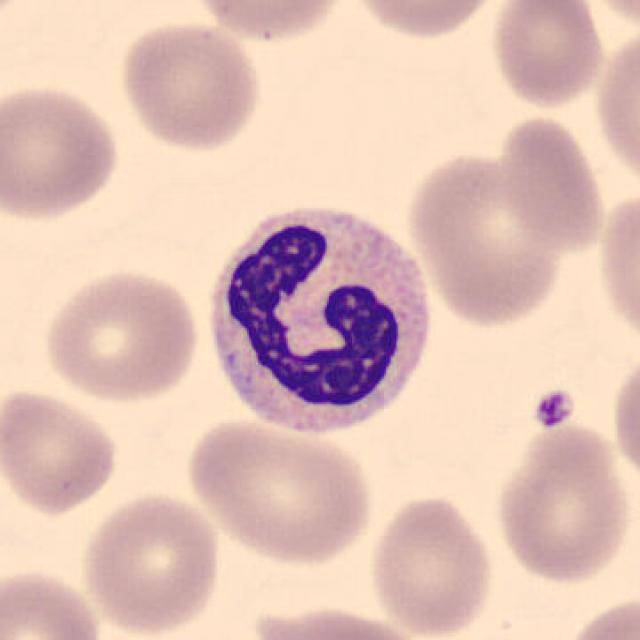Neutrophil: (195, 190, 441, 446)
Platelets: (530, 386, 580, 432)
RBC: (402, 146, 570, 330), (183, 414, 377, 566), (491, 418, 636, 589), (37, 264, 203, 406), (78, 488, 224, 638), (114, 18, 265, 155), (364, 490, 500, 638), (0, 79, 124, 225), (492, 111, 610, 254), (0, 384, 124, 518), (485, 0, 610, 113), (590, 18, 638, 194), (594, 182, 640, 356), (0, 566, 107, 640), (183, 0, 354, 46), (244, 601, 432, 640), (346, 0, 506, 42), (608, 346, 640, 490), (560, 590, 640, 640), (580, 0, 638, 37), (0, 0, 37, 35)
